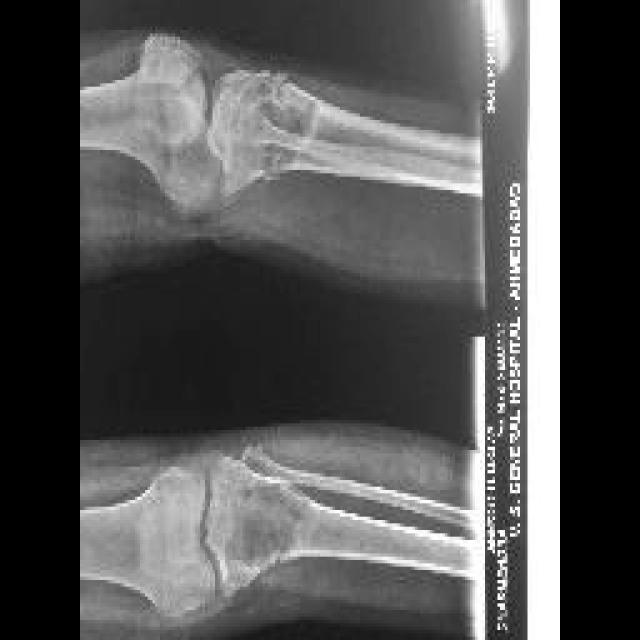bone-cancer: (208, 72, 330, 196), (220, 470, 315, 573)
